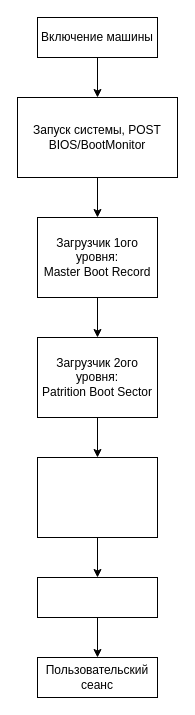
Some shapes in this 195 by 715 pixel diagram are drawn without their labels. Each missing label, with the centre of its shape:
Загрузка ядра ОС: pixel 97 597
Загрузчик 3его уровня: Bootmgr, Ntldr, GRUB: pixel 97 497
